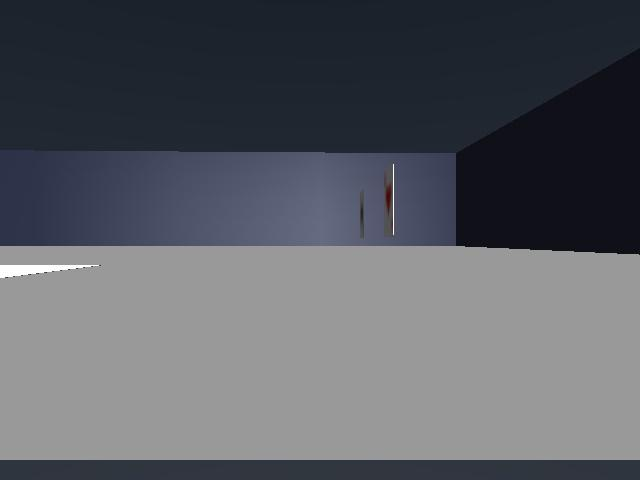club: (360, 189, 363, 237)
diamond: (384, 164, 393, 235)
